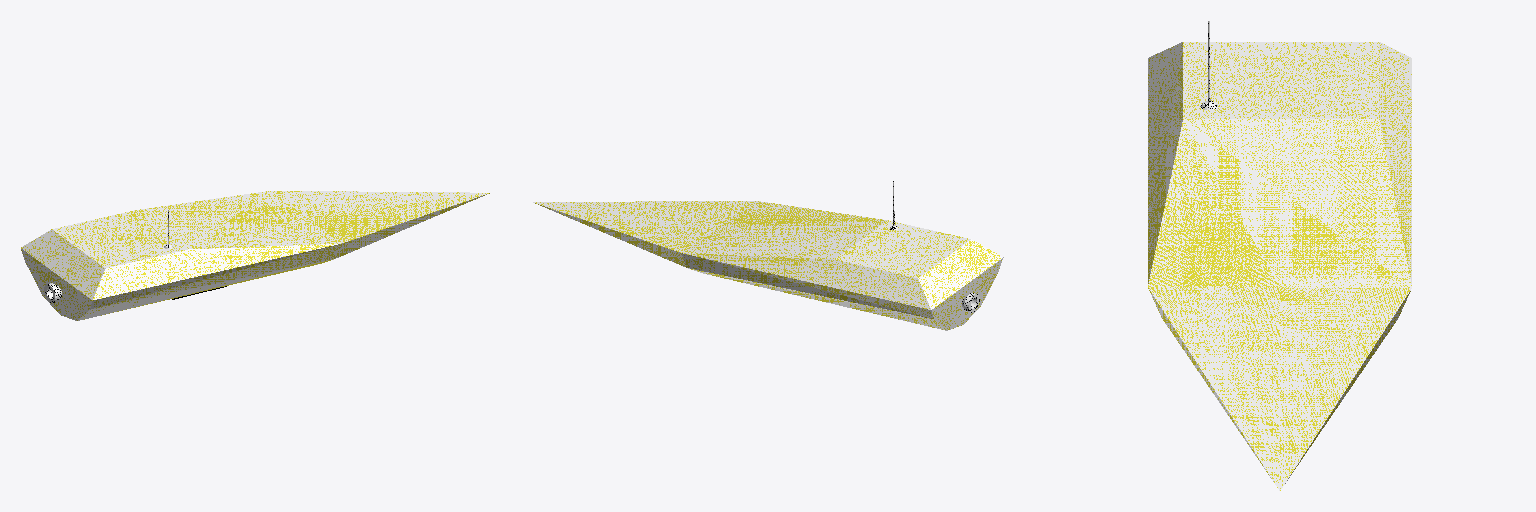
robot.urdf — emily:
<?xml version="1.0"?>
<robot name="emily">

    <link name="base_link">
        <visual>
            <origin rpy="0 0 0" xyz="0 0 0"/>
            <geometry>
                <mesh filename="package://asv_pilot/data/emily2.dae"/>
            </geometry>
        </visual>
    </link>

</robot>

--- What the picture shows (computed from the rendered views, not written in the file) ---
Views: 3 orthographic renders of the robot side by side, from view 1: azimuth 30°, elevation 25°; view 2: azimuth 150°, elevation 25°; view 3: azimuth 270°, elevation 25°.
Model emily with 1 links and 0 joints (none), rooted at base_link, posed all joints at 0.
Links seen in each view (by area): view 1: base_link; view 2: base_link; view 3: base_link.
Boxes of the visible links, x1=… form: base_link: x1=21, y1=191, x2=489, y2=320; base_link: x1=533, y1=181, x2=1003, y2=330; base_link: x1=1148, y1=21, x2=1411, y2=490.
Size in the robot's own frame: 1.41 by 0.3989 by 0.3348 metres.
Meshes: 1 distinct files referenced, 1 mesh visuals loaded (1 Collada DAE).
